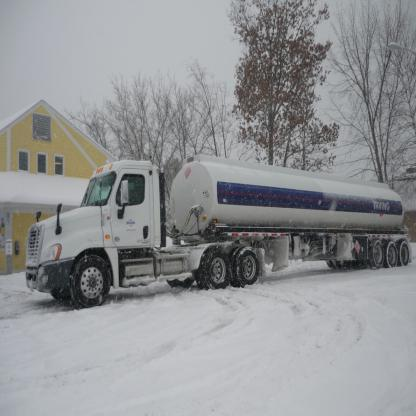Truck: (25, 153, 414, 310)
